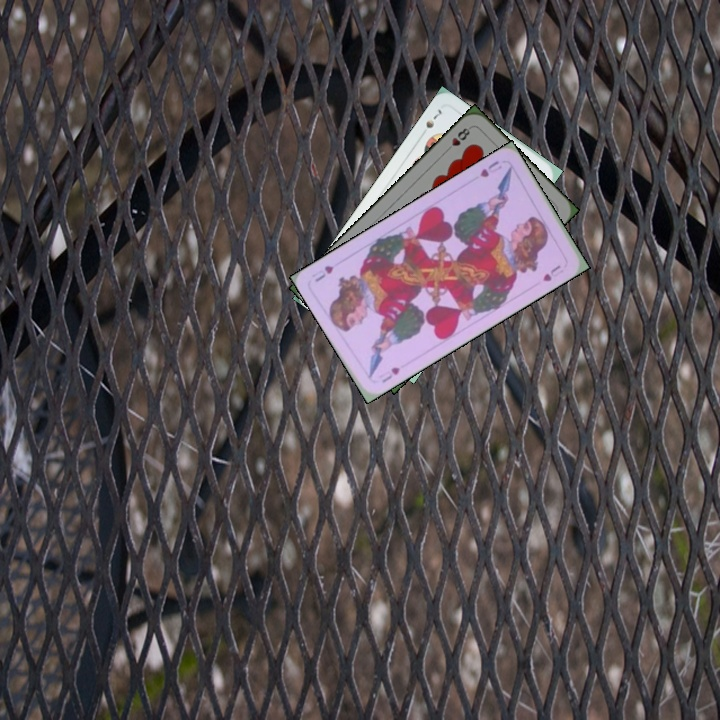H8: (441, 123, 474, 155)
HU: (476, 157, 504, 180), (378, 363, 402, 385)
S7: (421, 105, 445, 131)
